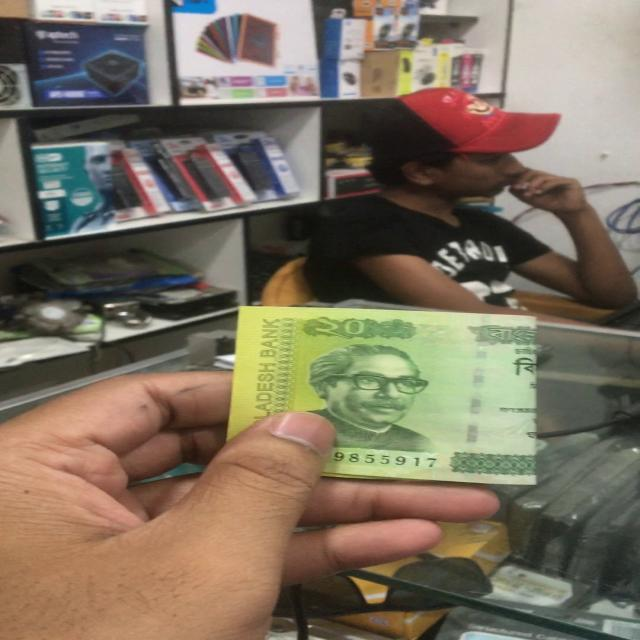Taka: (231, 304, 548, 496)
